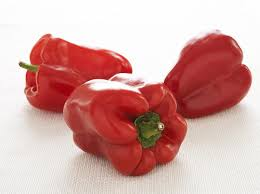bell pepper: (70, 67, 188, 170), (13, 28, 134, 120), (168, 30, 256, 121)
